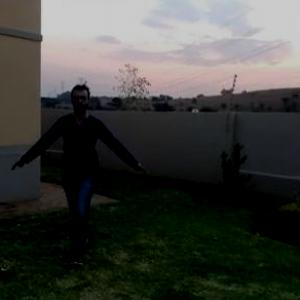land: (22, 87, 148, 249)
